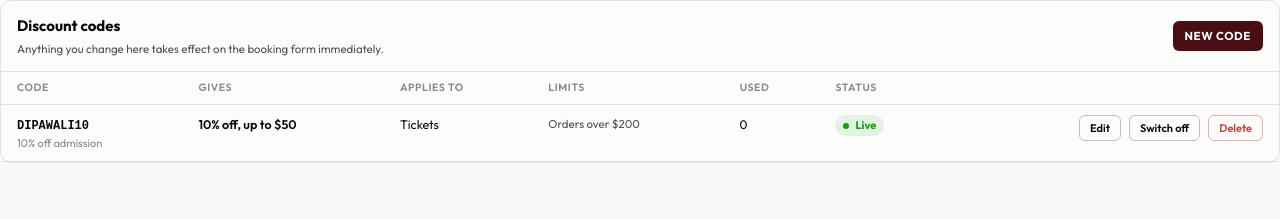
Test: Switching a code off › says it stops working immediately
The width and height of the screenshot is (1280, 219).
Click the button "Switch off".
click(1165, 128)  # box [1129,114,1200,141]
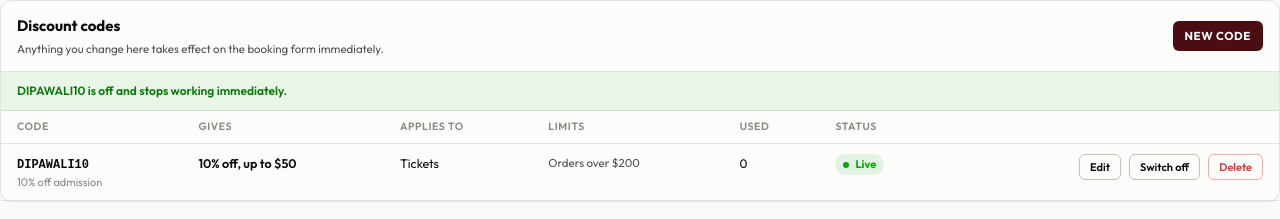
Now the message shows "stops working immediately", box [17,83,287,98]
